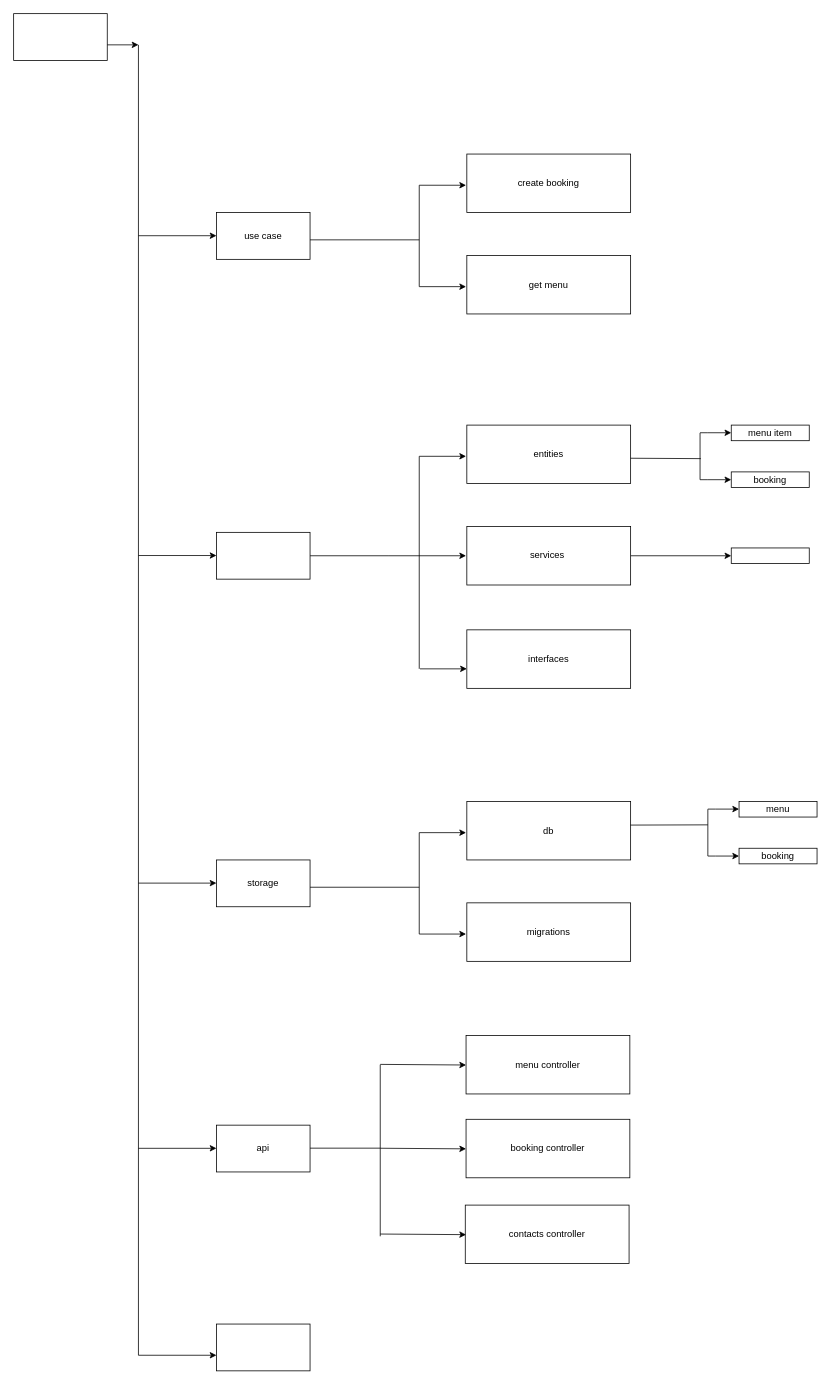
The diagram is 831 pixels wide and 1385 high, and some of its shapes have lost their labels. Here are the shapes that lost their labels. From the top down, the centre of each, then its label:
the point at 60,36: front
the point at 263,555: business logic
the point at 769,555: booking service
the point at 263,1347: log
